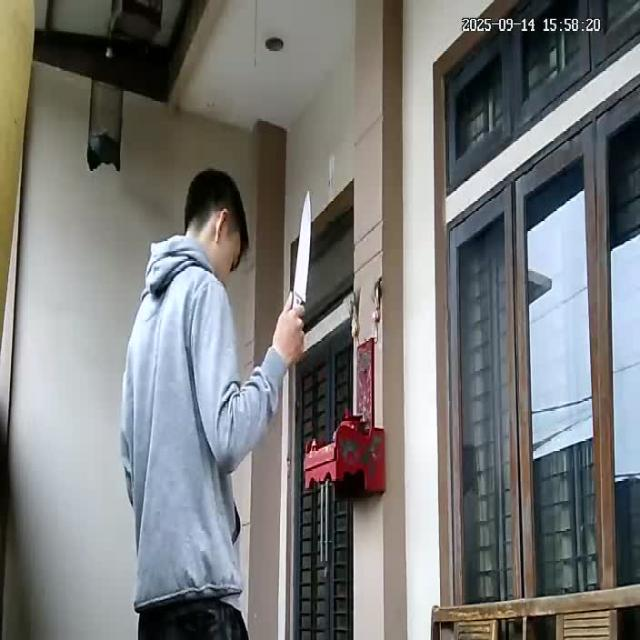senjata_tajam: (292, 190, 312, 307)
